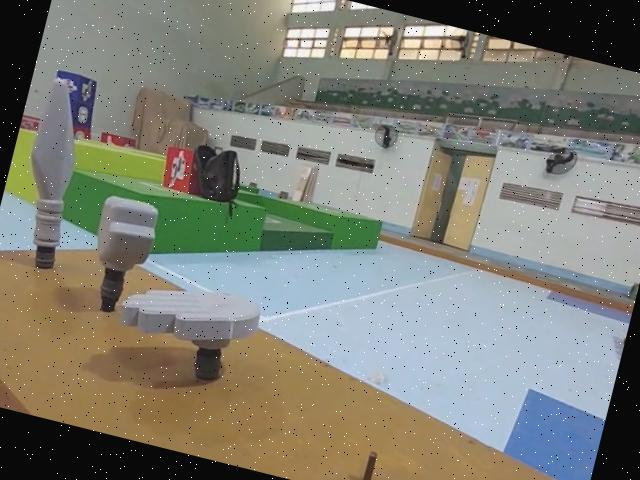Fist: (76, 186, 166, 319)
Hand: (105, 263, 262, 394)
Sph: (1, 76, 101, 280)
